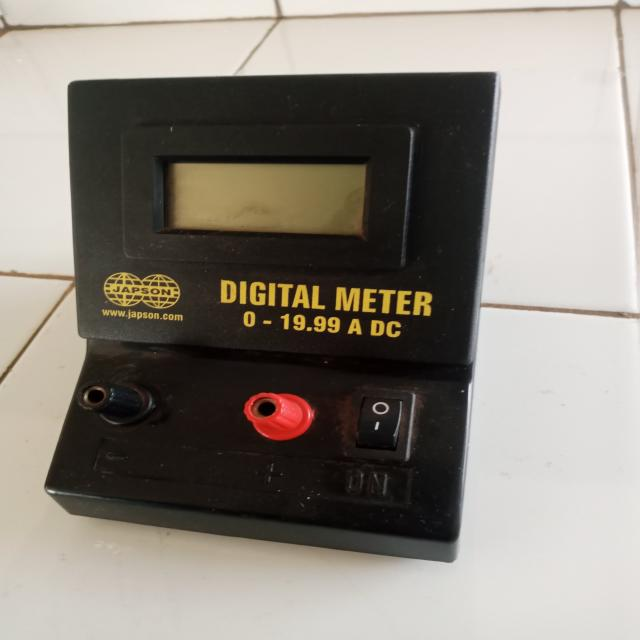Digital Ammeter: (50, 62, 506, 562)
